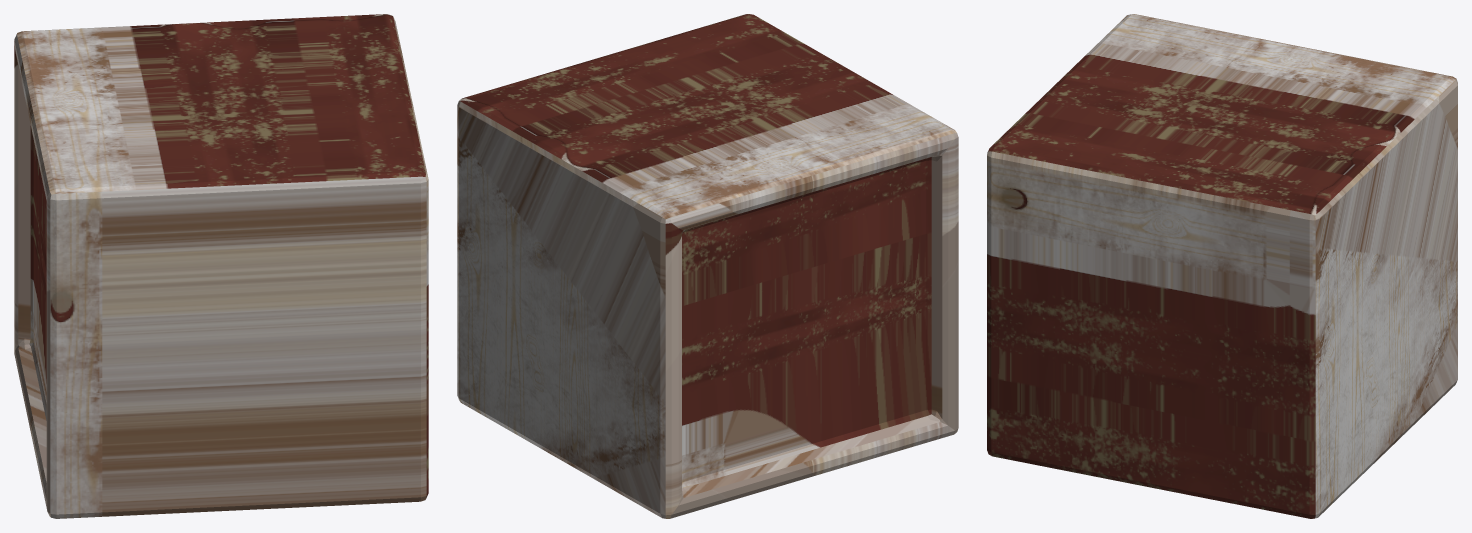
The picture shows the model from 3 angles, left to right: view 1: azimuth 30°, elevation 25°; view 2: azimuth 150°, elevation 25°; view 3: azimuth 270°, elevation 25°; orthographic projection. The views are drawn at different scales.
Parts seen in each view (by area): view 1: télés.005; view 2: télés.005; view 3: télés.005.
Boxes of the visible parts, x1,y1,x2,y2 form: télés.005: [14, 14, 428, 518]; télés.005: [457, 14, 958, 518]; télés.005: [987, 14, 1457, 518].
Bounding box in the file's own units: 84.84 × 60.5 × 83.53.
